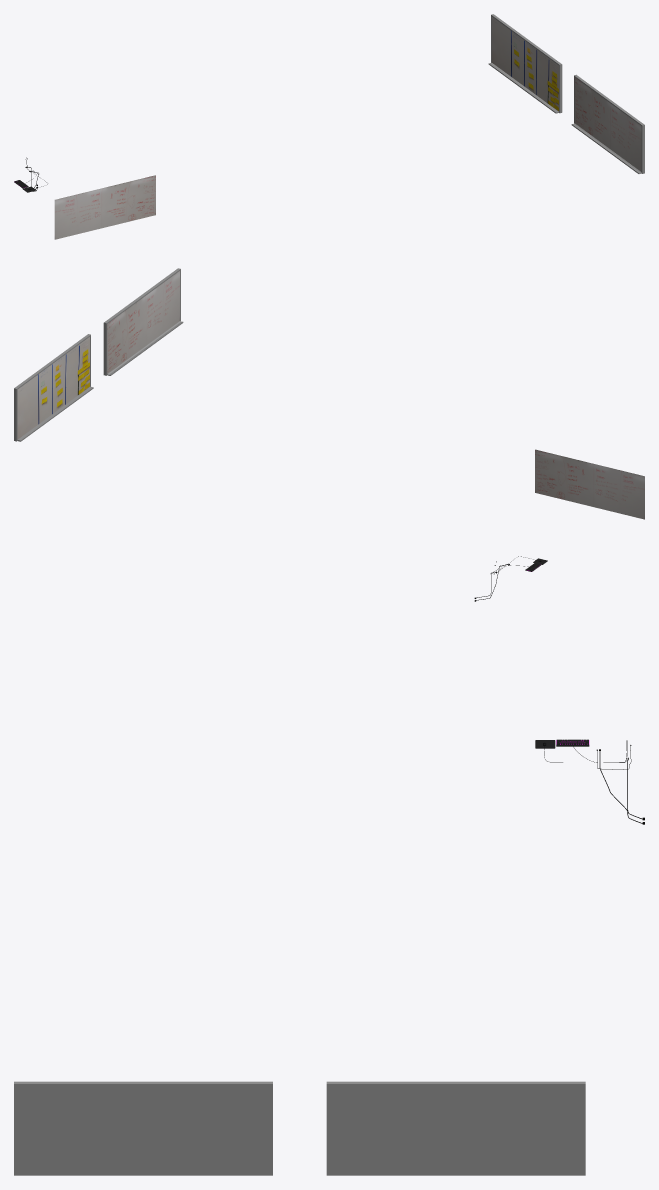
The model's file is HubUpdate.fbx.
The picture shows the model from 3 angles, top to bottom: view 1: azimuth 30°, elevation 25°; view 2: azimuth 150°, elevation 25°; view 3: azimuth 270°, elevation 25°; orthographic projection. The views are drawn at different scales.
Parts seen in each view (by area): view 1: Plane.002, Plane, Plane.001, WhiteBoard.002|Cube.059|Dupli|, WhiteBoard.001|Cube.008|Dupli|; view 2: Plane.002, Plane, Plane.001, WhiteBoard.001|Cube.008|Dupli|, WhiteBoard.002|Cube.059|Dupli|; view 3: WhiteBoard.002|Cube.059|Dupli|, WhiteBoard.001|Cube.008|Dupli|.
Part boxes in pixels (x1,y1,x2,y2): Plane.002: (54,175,155,239); Plane: (574,77,641,171); Plane.001: (492,17,558,111); WhiteBoard.002|Cube.059|Dupli|: (488,14,562,113); WhiteBoard.001|Cube.008|Dupli|: (571,74,644,173); Plane.002: (535,449,644,519); Plane: (107,271,179,373); Plane.001: (17,337,89,439); WhiteBoard.001|Cube.008|Dupli|: (103,268,183,375); WhiteBoard.002|Cube.059|Dupli|: (14,334,93,441); WhiteBoard.002|Cube.059|Dupli|: (326,1081,585,1175); WhiteBoard.001|Cube.008|Dupli|: (14,1081,272,1175).
Bounding box in the file's own units: 1292 × 188 × 732.
Materials: 12 (2 with a texture image).
